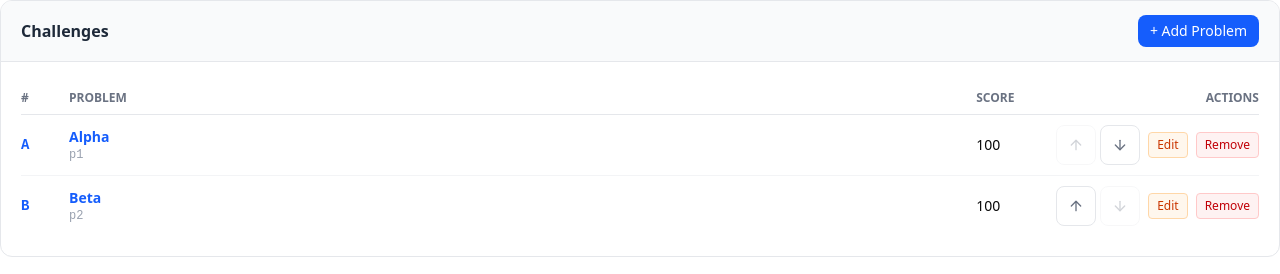
Test case: a failed reorder reports the error and re-syncs server order
Expected: the link "Alpha" is shown, [69,127,110,146]
Click the button named "Move Beta up" at [1076, 206], box [1056,186,1096,226]
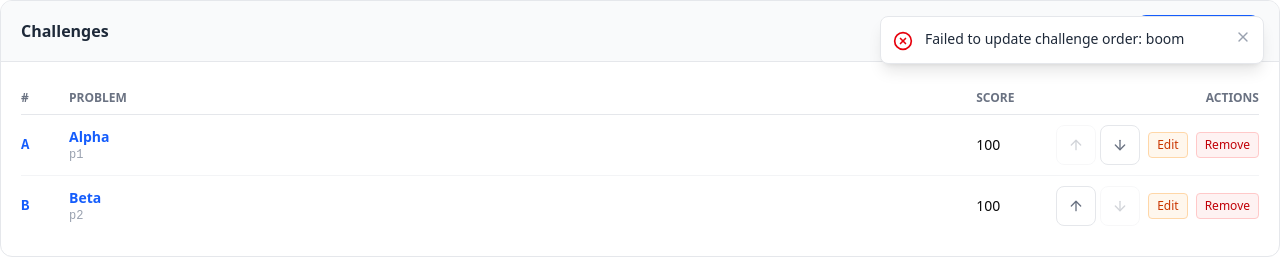
Expected: the row "A Alpha p1 100 Edit Remove" is shown, [21,114,1259,176]
Expected: the message "Failed to update challenge order: boom" is shown, [880,16,1264,64]
Expected: the message reads "Failed to update challenge order: boom", [925,29,1184,48]
